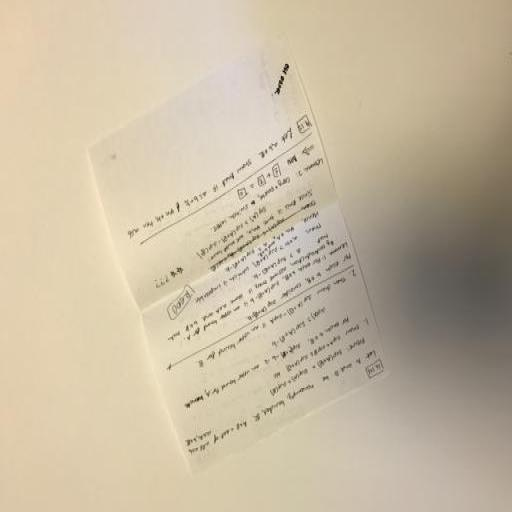paper: (88, 58, 387, 468)
